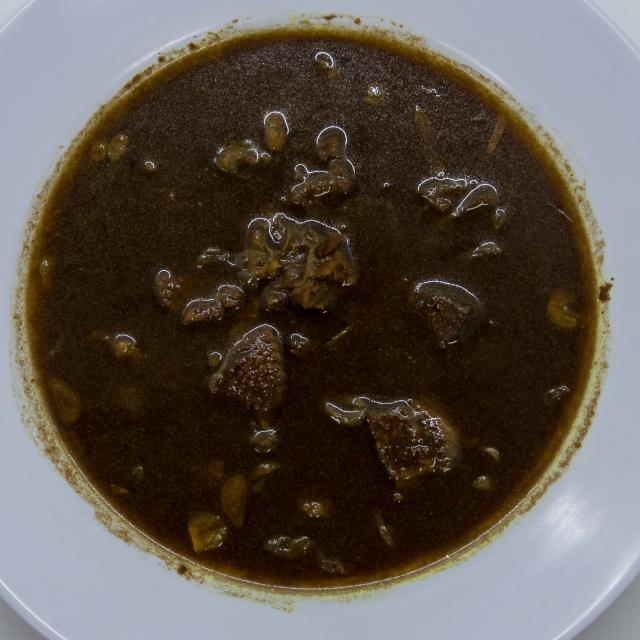Rawon-Surabaya: (24, 8, 613, 606)
